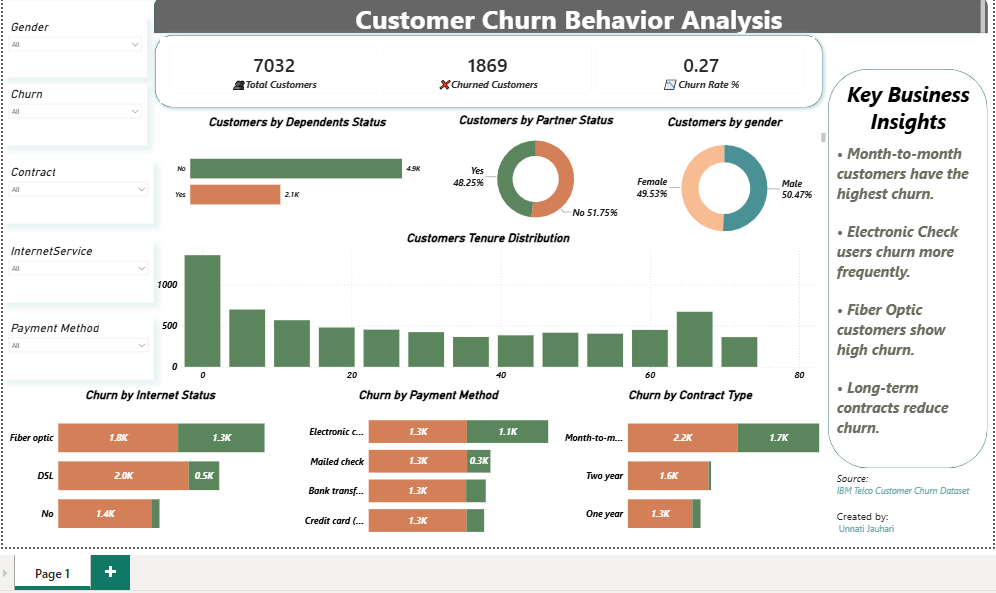

The dashboard page shown, as its layout file describes it:
{"tool":"powerbi","page":{"name":"Page 1","canvas":[1800,1000],"ordinal":0},"visuals":[{"type":"donutChart","title":" Customers by gender","fields":{"Category":["Customer_Churn.gender"],"Y":["Customer_Churn.Total Customers"]},"box":[1134,214,354,242],"z":0},{"type":"donutChart","title":"Customers by Partner Status","fields":{"Y":["Customer_Churn.Total Customers"],"Category":["Customer_Churn.Partner"]},"box":[786,210,366,216],"z":1000},{"type":"clusteredBarChart","title":"Customers by Dependents Status","fields":{"Category":["Customer_Churn.Dependents"],"Y":["Customer_Churn.Total Customers"]},"box":[306,214,458,212],"z":2000},{"type":"clusteredColumnChart","title":"Customers Tenure Distribution","fields":{"Category":["Customer_Churn.tenure (bins)"],"Y":["Customer_Churn.Total Customers"]},"box":[274,426,1214,280],"z":3000},{"type":"barChart","title":"Churn by Contract Type","fields":{"Category":["Customer_Churn.Contract"],"Y":["Customer_Churn.Total Customers"],"Series":["Customer_Churn.Churn"]},"box":[998,710,502,290],"z":4000},{"type":"barChart","title":"Churn by  Payment Method","fields":{"Category":["Customer_Churn.PaymentMethod"],"Y":["Customer_Churn.Total Customers"],"Series":["Customer_Churn.Churn"]},"box":[530,710,484,290],"z":5000},{"type":"barChart","title":"Churn by Internet Status","fields":{"Y":["Customer_Churn.Total Customers"],"Series":["Customer_Churn.Churn"],"Category":["Customer_Churn.InternetService"]},"box":[6,710,524,290],"z":6000},{"type":"slicer","fields":{"Values":["Customer_Churn.Contract"]},"box":[0,300,274,112],"z":7000},{"type":"slicer","fields":{"Values":["Customer_Churn.InternetService"]},"box":[0,444,274,112],"z":8000},{"type":"slicer","fields":{"Values":["Customer_Churn.PaymentMethod"]},"box":[0,584,274,112],"z":9000},{"type":"slicer","fields":{"Values":["Customer_Churn.gender"]},"box":[0,36,262,110],"z":10000},{"type":"slicer","fields":{"Values":["Customer_Churn.Churn"]},"box":[0,158,262,112],"z":11000},{"type":"shape","box":[274,0,1516,66],"z":12000},{"type":"textbox","box":[372,242,1128,28],"z":13000},{"type":"shape","box":[1500,130,290,726],"z":14000},{"type":"textbox","box":[1510,146,270,694],"z":15000},{"type":"textbox","box":[1510,856,270,70],"z":16000},{"type":"shape","box":[268,60,1232,150],"z":17000},{"type":"cardVisual","fields":{"Data":["Customer_Churn.Total Customers","Customer_Churn.Churned Customers","Customer_Churn.Churn Rate %"]},"box":[286,72,1190,120],"z":18000},{"type":"textbox","box":[1510,926,270,74],"z":19000},{"type":"textbox","box":[274,0,1516,72],"z":20000}]}

Visuals, with their boxes on the page's 1800x1000 design canvas (x1, y1, x2, y2). These are canvas units, not pixel positions in the 996x593 screenshot, which may show the page scaled, cropped or inside an application window:
" Customers by gender" donutChart: {"left": 1134, "top": 214, "right": 1488, "bottom": 456}
"Customers by Partner Status" donutChart: {"left": 786, "top": 210, "right": 1152, "bottom": 426}
"Customers by Dependents Status" clusteredBarChart: {"left": 306, "top": 214, "right": 764, "bottom": 426}
"Customers Tenure Distribution" clusteredColumnChart: {"left": 274, "top": 426, "right": 1488, "bottom": 706}
"Churn by Contract Type" barChart: {"left": 998, "top": 710, "right": 1500, "bottom": 1000}
"Churn by  Payment Method" barChart: {"left": 530, "top": 710, "right": 1014, "bottom": 1000}
"Churn by Internet Status" barChart: {"left": 6, "top": 710, "right": 530, "bottom": 1000}
slicer - Customer_Churn.Contract: {"left": 0, "top": 300, "right": 274, "bottom": 412}
slicer - Customer_Churn.InternetService: {"left": 0, "top": 444, "right": 274, "bottom": 556}
slicer - Customer_Churn.PaymentMethod: {"left": 0, "top": 584, "right": 274, "bottom": 696}
slicer - Customer_Churn.gender: {"left": 0, "top": 36, "right": 262, "bottom": 146}
slicer - Customer_Churn.Churn: {"left": 0, "top": 158, "right": 262, "bottom": 270}
shape: {"left": 274, "top": 0, "right": 1790, "bottom": 66}
textbox: {"left": 372, "top": 242, "right": 1500, "bottom": 270}
shape: {"left": 1500, "top": 130, "right": 1790, "bottom": 856}
textbox: {"left": 1510, "top": 146, "right": 1780, "bottom": 840}
textbox: {"left": 1510, "top": 856, "right": 1780, "bottom": 926}
shape: {"left": 268, "top": 60, "right": 1500, "bottom": 210}
cardVisual - Customer_Churn.Total Customers x Customer_Churn.Churned Customers: {"left": 286, "top": 72, "right": 1476, "bottom": 192}
textbox: {"left": 1510, "top": 926, "right": 1780, "bottom": 1000}
textbox: {"left": 274, "top": 0, "right": 1790, "bottom": 72}
